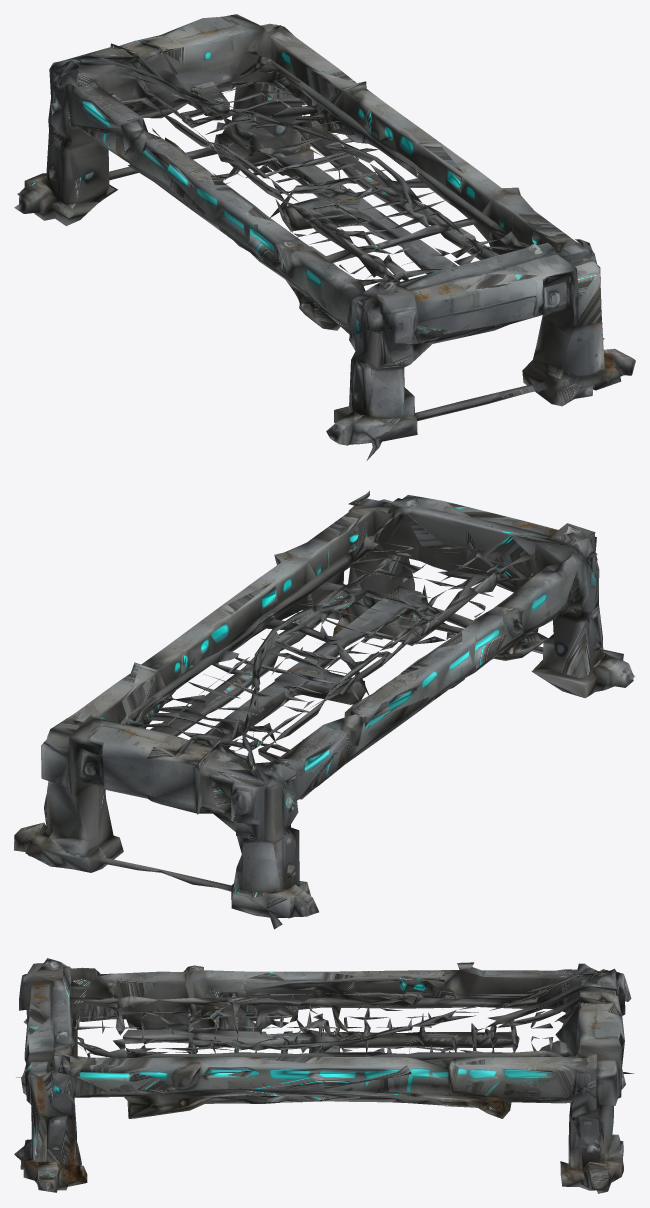
File: cable_tray.glb
3 views of the same model, one above another, from view 1: azimuth 30°, elevation 25°; view 2: azimuth 150°, elevation 25°; view 3: azimuth 270°, elevation 25° (orthographic). The views are drawn at different scales.
Parts seen in each view (by area): view 1: tripo_node_f2915f79-4644-4f53-ba20-911870a3f062; view 2: tripo_node_f2915f79-4644-4f53-ba20-911870a3f062; view 3: tripo_node_f2915f79-4644-4f53-ba20-911870a3f062.
Part boxes in pixels (box(x1,y1,x2,y2)): tripo_node_f2915f79-4644-4f53-ba20-911870a3f062: box(14, 14, 635, 460); tripo_node_f2915f79-4644-4f53-ba20-911870a3f062: box(14, 491, 634, 929); tripo_node_f2915f79-4644-4f53-ba20-911870a3f062: box(14, 958, 633, 1193).
Size of the model in its own units: 0.4926 by 0.2433 by 0.9917.
Materials: 1 (1 with a texture image).
